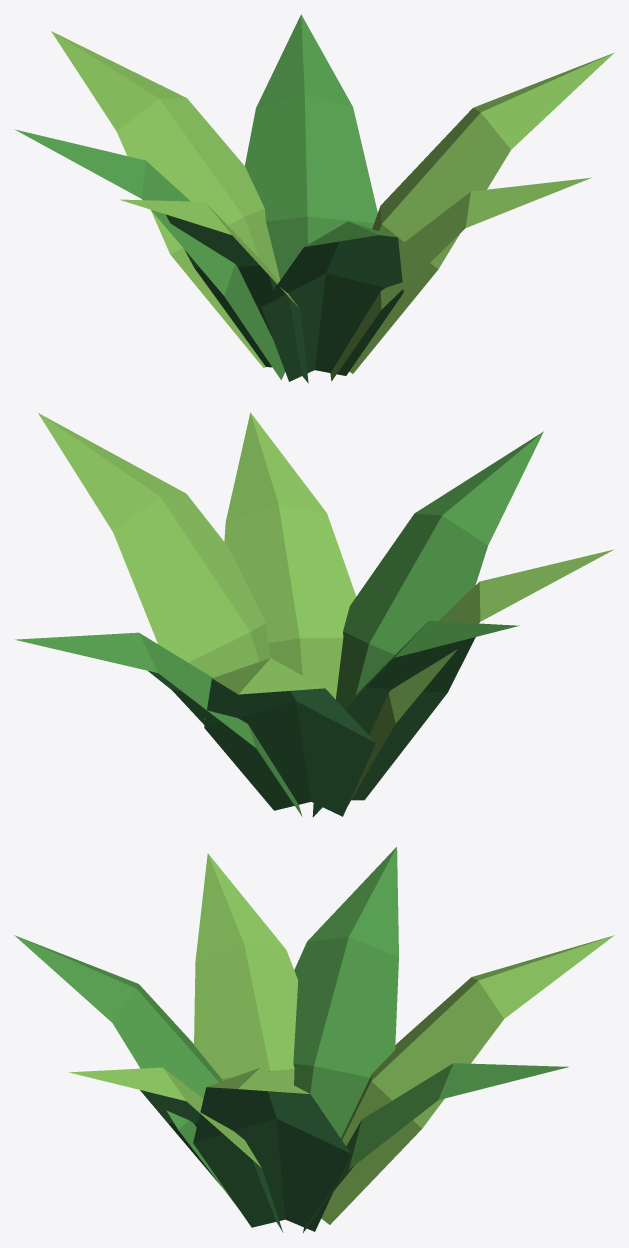
File: fern.glb
The picture shows the model from 3 angles, top to bottom: view 1: azimuth 30°, elevation 25°; view 2: azimuth 150°, elevation 25°; view 3: azimuth 270°, elevation 25°; orthographic projection. The views are drawn at different scales.
Visible parts, largest first — view 1: fern__mesh; view 2: fern__mesh; view 3: fern__mesh.
Part boxes in pixels (left/top/right/bottom): fern__mesh: left=14, top=14, right=614, bottom=383; fern__mesh: left=15, top=412, right=613, bottom=817; fern__mesh: left=14, top=847, right=614, bottom=1232.
Size of the model in its own units: 1.16 by 0.5651 by 1.17.
Materials: 1 (1 with a texture image).
